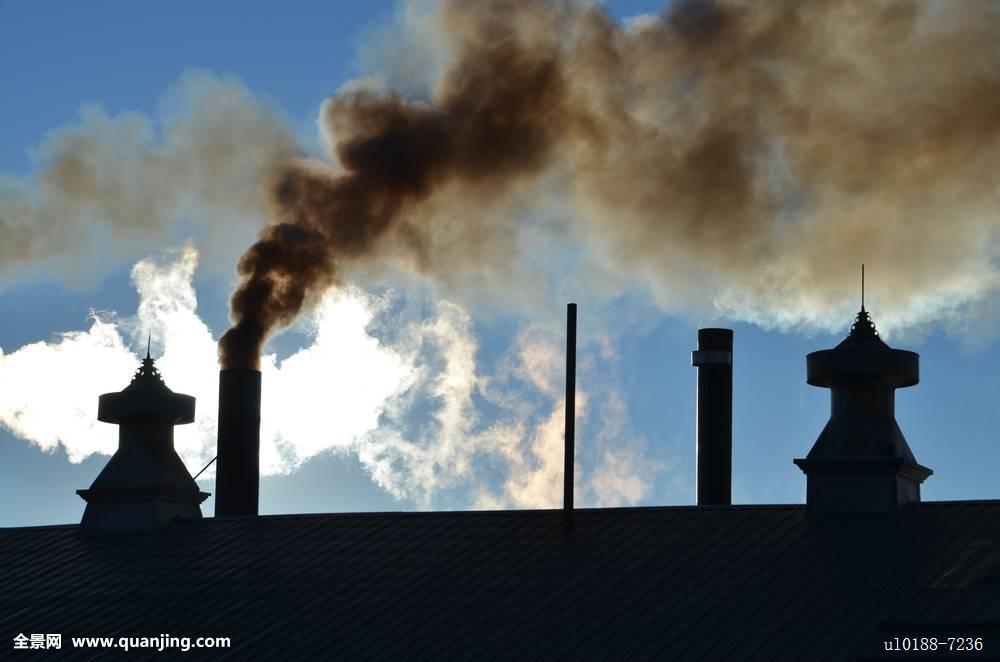dust: (212, 64, 440, 374)
